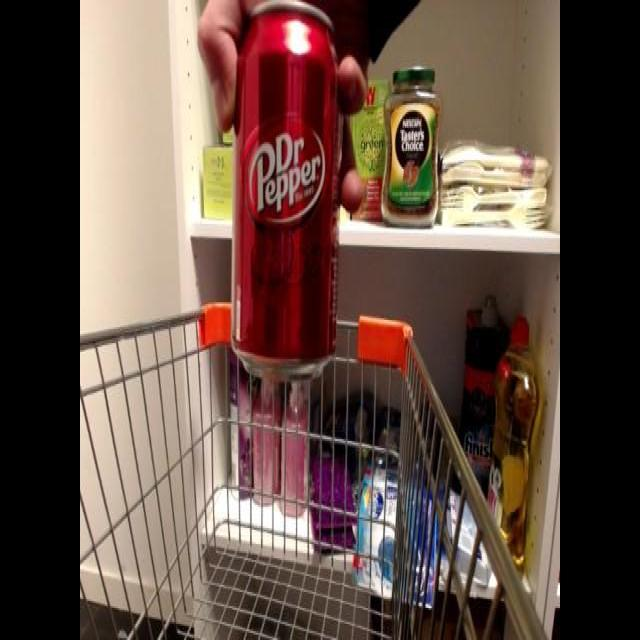Dr Pepper: (220, 7, 344, 404)
